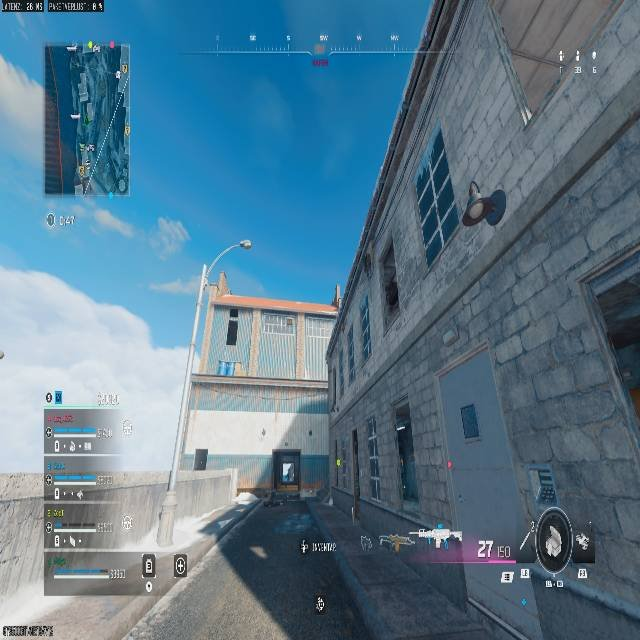player: (461, 178, 507, 229)
